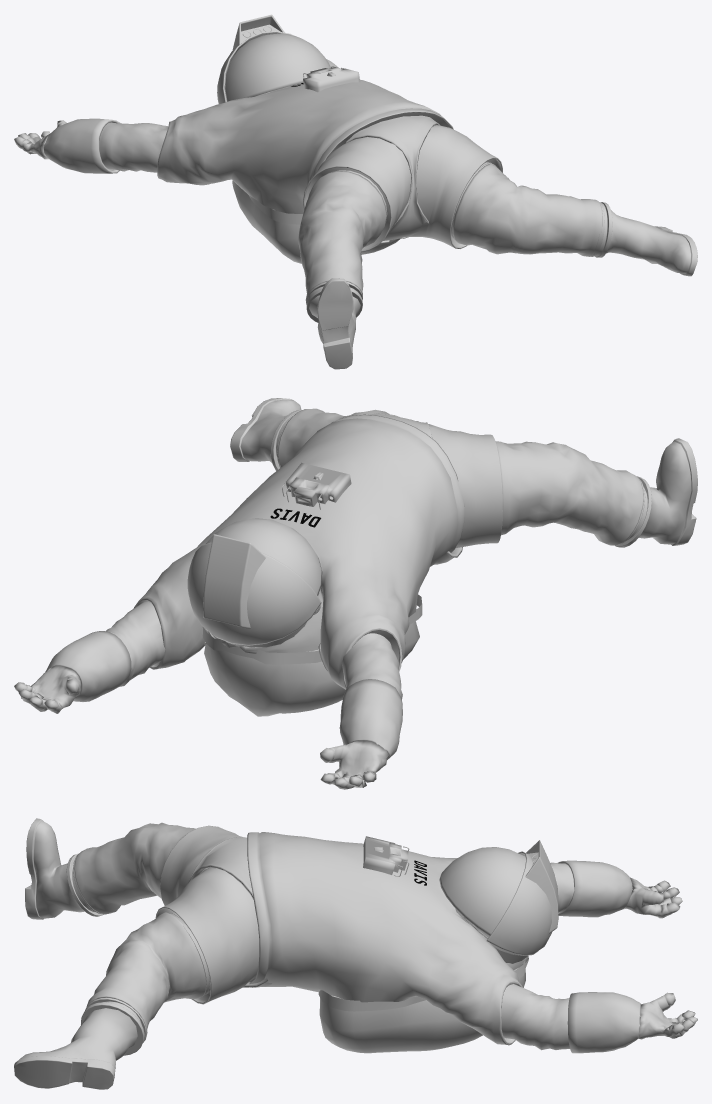
Rendered from Davis_DeadBody.fbx.
The picture shows the model from 3 angles, top to bottom: view 1: azimuth 30°, elevation 25°; view 2: azimuth 150°, elevation 25°; view 3: azimuth 270°, elevation 25°; orthographic projection. The views are drawn at different scales.
Parts seen in each view (by area): view 1: Davis_DeadBody; view 2: Davis_DeadBody; view 3: Davis_DeadBody.
Boxes of the visible parts, x1,y1,x2,y2 form: Davis_DeadBody: (14,14,697,369); Davis_DeadBody: (14,398,697,789); Davis_DeadBody: (14,818,697,1089).
Bounding box in the file's own units: 1.41 × 0.6485 × 2.04.
